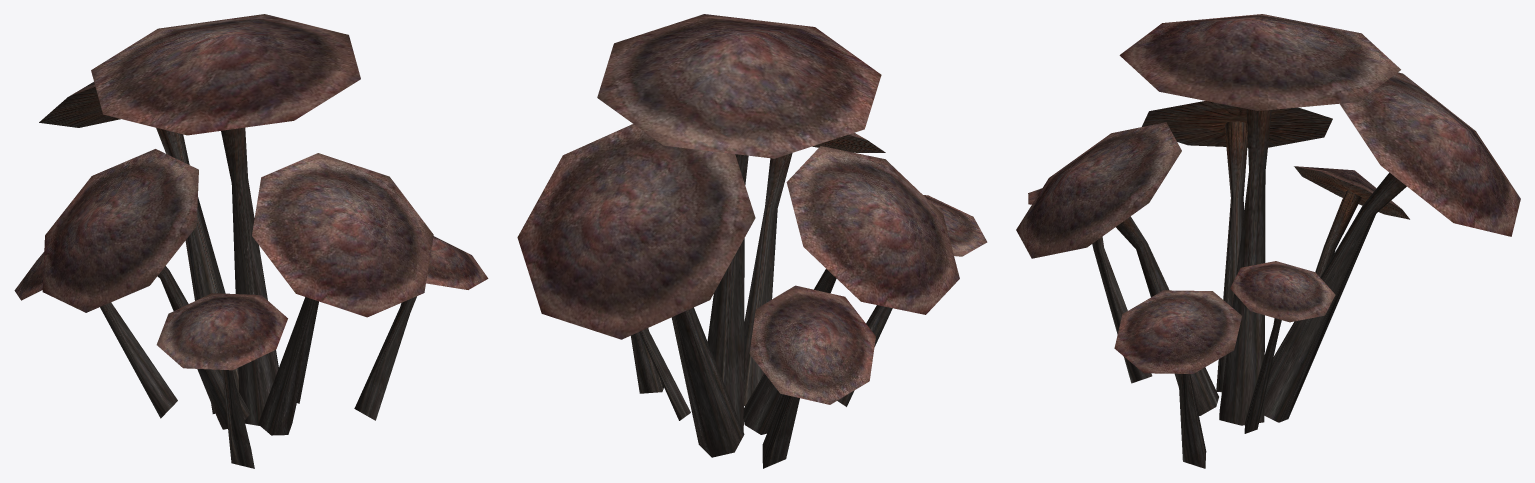
File: Shrooms1.fbx
3 renders of one model, left to right at view 1: azimuth 30°, elevation 25°; view 2: azimuth 150°, elevation 25°; view 3: azimuth 270°, elevation 25°, orthographic. The views are drawn at different scales.
Parts seen in each view (by area): view 1: Shrooms2; view 2: Shrooms2; view 3: Shrooms2.
Part boxes in pixels (x1,y1,x2,y2): Shrooms2: (14, 14, 488, 468); Shrooms2: (517, 14, 987, 468); Shrooms2: (1016, 14, 1520, 468).
Size of the model in its own units: 2.12 by 2.02 by 2.35.
